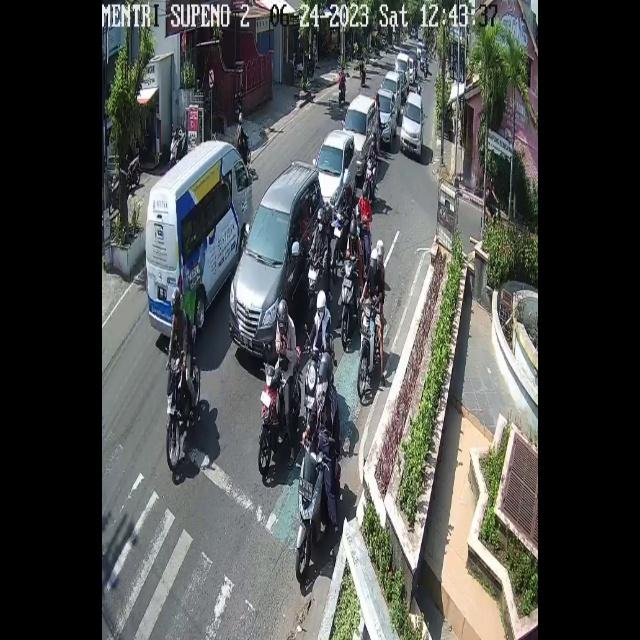bus: (294, 414, 341, 586), (257, 347, 302, 478), (165, 342, 200, 466), (302, 332, 334, 409), (356, 297, 378, 402), (338, 258, 356, 346), (306, 253, 329, 315), (332, 208, 348, 266), (363, 156, 375, 202), (242, 134, 254, 168), (336, 79, 346, 109)
car: (146, 140, 255, 335)
motorcycle: (229, 161, 327, 357), (315, 128, 357, 219), (343, 92, 379, 179), (400, 90, 425, 159), (374, 87, 396, 150), (384, 70, 402, 118)
